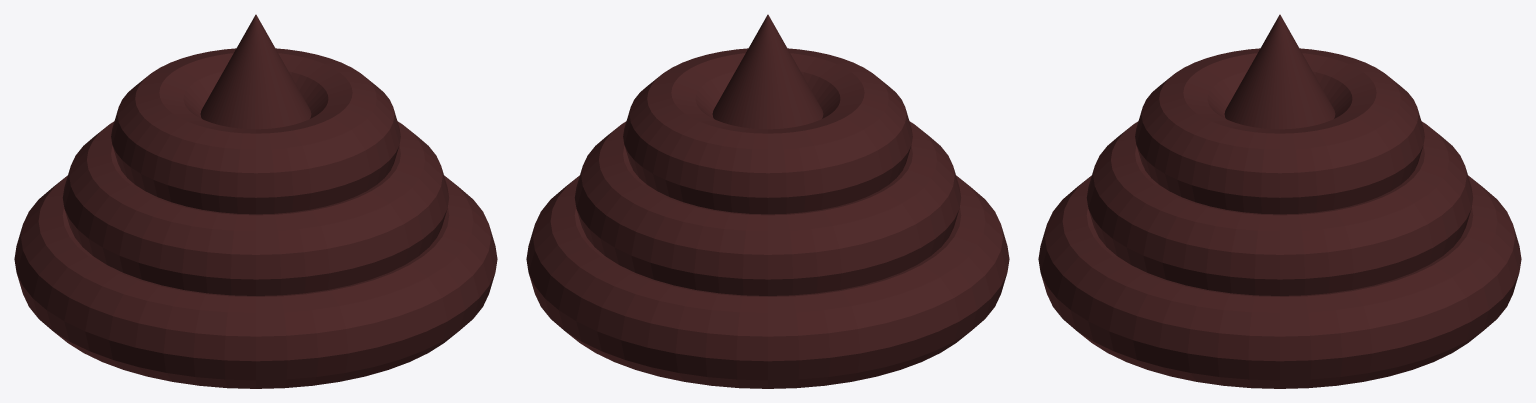
3 views of the same model, side by side, from view 1: azimuth 30°, elevation 25°; view 2: azimuth 150°, elevation 25°; view 3: azimuth 270°, elevation 25° (orthographic).
Visible parts, largest first — view 1: Torus.003, Torus.017, Torus.020, Cone; view 2: Torus.003, Torus.017, Torus.020, Cone; view 3: Torus.003, Torus.017, Torus.020, Cone.
Boxes of the visible parts, bbox=[...] form: Torus.003: bbox=[14, 175, 497, 388]; Torus.017: bbox=[62, 121, 449, 295]; Torus.020: bbox=[111, 48, 400, 214]; Cone: bbox=[200, 14, 311, 129]; Torus.003: bbox=[526, 175, 1009, 388]; Torus.017: bbox=[574, 121, 961, 295]; Torus.020: bbox=[623, 48, 912, 214]; Cone: bbox=[712, 14, 823, 129]; Torus.003: bbox=[1038, 175, 1521, 388]; Torus.017: bbox=[1086, 121, 1473, 295]; Torus.020: bbox=[1135, 48, 1424, 214]; Cone: bbox=[1224, 14, 1335, 129].
Size of the model in its own units: 5 by 3.3 by 5.
